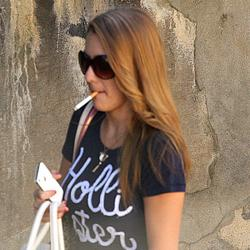smoking: (72, 89, 107, 113)
